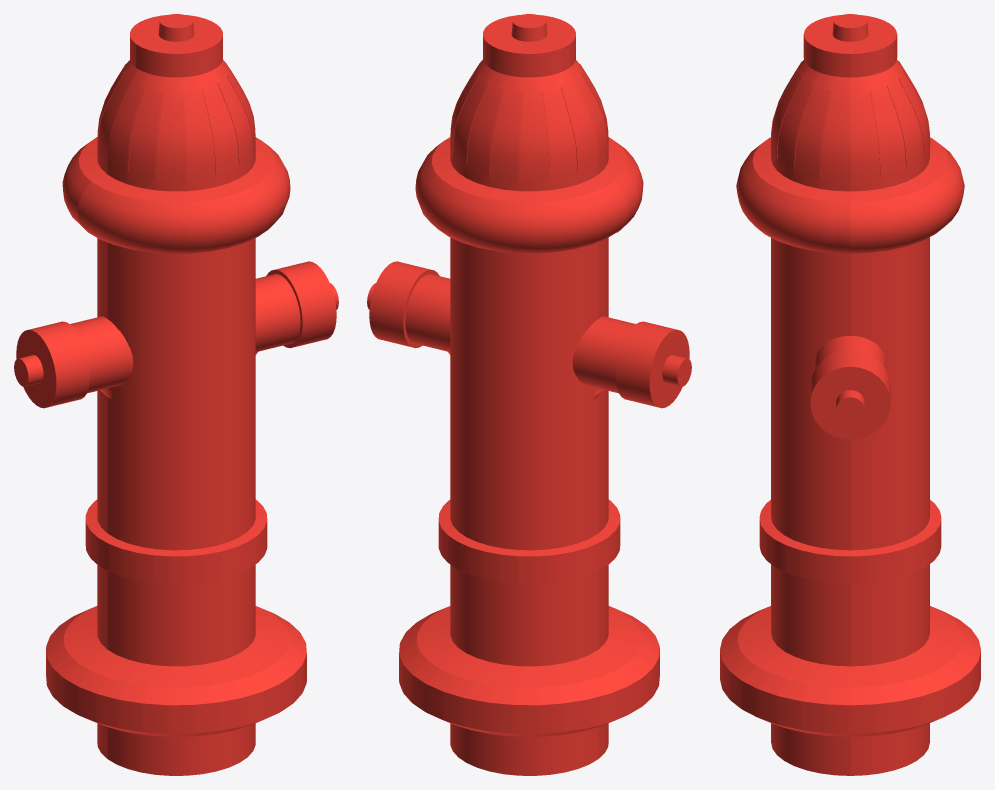
File: FireHydrant.fbx
3 renders of one model, left to right at view 1: azimuth 30°, elevation 25°; view 2: azimuth 150°, elevation 25°; view 3: azimuth 270°, elevation 25°, orthographic.
Parts seen in each view (by area): view 1: FireHyrdrant; view 2: FireHyrdrant; view 3: FireHyrdrant.
Part boxes in pixels (x1,y1,x2,y2): FireHyrdrant: (14, 14, 338, 775); FireHyrdrant: (367, 14, 691, 775); FireHyrdrant: (720, 14, 980, 775).
Bounding box in the file's own units: 142 × 316 × 104.
